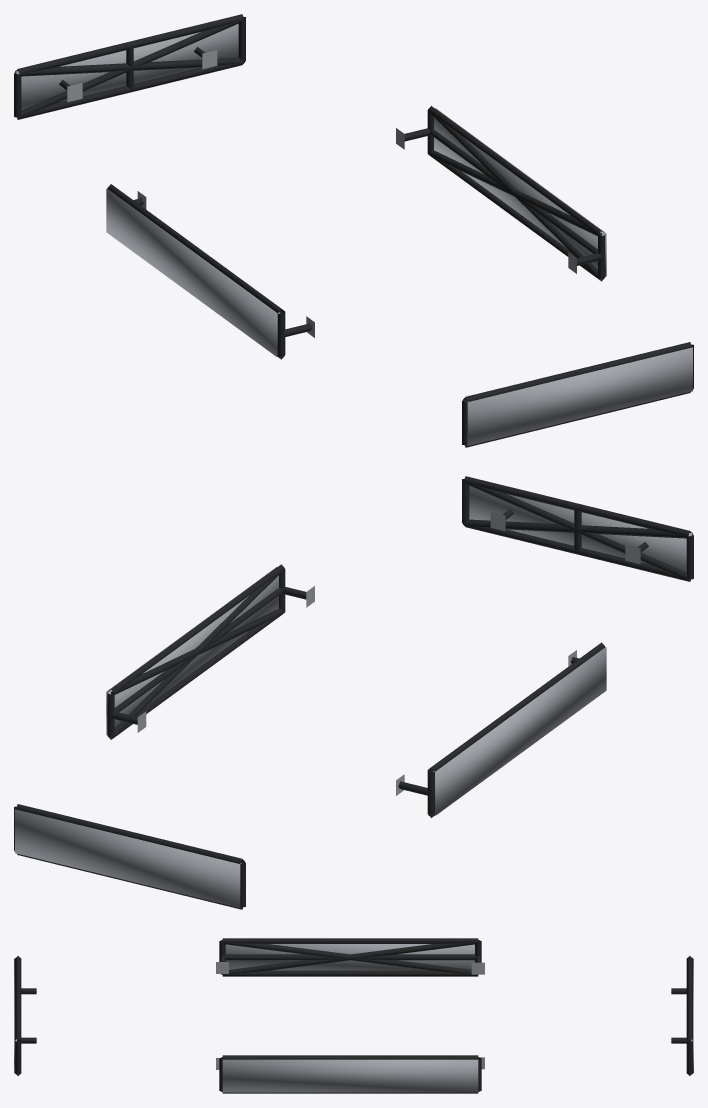
File: voltane_aurora_protecao.glb
3 views of the same model, one above another, from view 1: azimuth 30°, elevation 25°; view 2: azimuth 150°, elevation 25°; view 3: azimuth 270°, elevation 25° (orthographic). The views are drawn at different scales.
Parts seen in each view (by area): view 1: Protection_front_Level3_Details, Protection_left_Level3_Details, Protection_rear_Level3_Details, Protection_rear_Level1_Details, Protection_right_Level1_Details, Protection_right_Level2_Details, Protection_rear_Level2_Details, Protection_right_Level3_Details, Protection_left_Level1_Details, Protection_front_Level1_Details; view 2: Protection_rear_Level3_Details, Protection_left_Level3_Details, Protection_front_Level3_Details, Protection_front_Level1_Details, Protection_right_Level1_Details, Protection_right_Level2_Details, Protection_front_Level2_Details, Protection_right_Level3_Details, Protection_rear_Level1_Details, Protection_left_Level1_Details; view 3: Protection_right_Level3_Details, Protection_left_Level2_Details, Protection_left_Level1_Details, Protection_left_Level3_Details, Protection_right_Level1_Details, Protection_rear_Level1_Details, Protection_front_Level1_Details.
Boxes of the visible parts, x1,y1,x2,y2 form: Protection_front_Level3_Details: [466, 347, 692, 445]; Protection_left_Level3_Details: [106, 188, 280, 356]; Protection_rear_Level3_Details: [15, 24, 238, 110]; Protection_rear_Level1_Details: [14, 14, 245, 119]; Protection_right_Level1_Details: [396, 106, 605, 281]; Protection_right_Level2_Details: [428, 112, 604, 281]; Protection_rear_Level2_Details: [16, 20, 243, 119]; Protection_right_Level3_Details: [434, 108, 606, 276]; Protection_left_Level1_Details: [107, 184, 314, 359]; Protection_front_Level1_Details: [462, 342, 693, 447]; Protection_rear_Level3_Details: [15, 809, 241, 907]; Protection_left_Level3_Details: [432, 647, 606, 815]; Protection_front_Level3_Details: [469, 486, 692, 572]; Protection_front_Level1_Details: [462, 476, 693, 581]; Protection_right_Level1_Details: [107, 564, 314, 739]; Protection_right_Level2_Details: [108, 570, 284, 739]; Protection_front_Level2_Details: [464, 482, 691, 581]; Protection_right_Level3_Details: [106, 567, 278, 734]; Protection_rear_Level1_Details: [14, 804, 245, 909]; Protection_left_Level1_Details: [396, 642, 604, 817]; Protection_right_Level3_Details: [222, 1059, 478, 1092]; Protection_left_Level2_Details: [222, 940, 477, 974]; Protection_left_Level1_Details: [216, 938, 484, 976]; Protection_left_Level3_Details: [225, 944, 474, 970]; Protection_right_Level1_Details: [216, 1055, 484, 1093]; Protection_rear_Level1_Details: [671, 956, 692, 1075]; Protection_front_Level1_Details: [15, 956, 36, 1075].
Size of the model in its own units: 2.39 by 0.354 by 5.69.
Materials: 1 (1 with a texture image).
